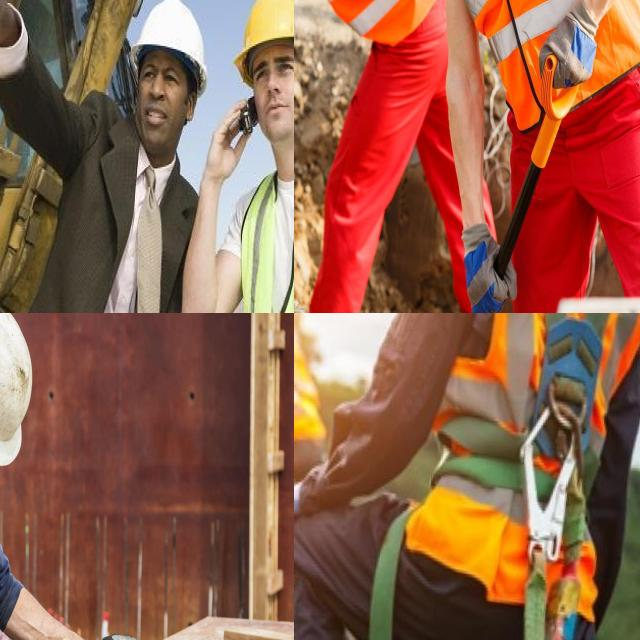Harness: (433, 313, 613, 640)
No_Ear-Protection: (182, 85, 198, 126)
No_Glasses: (136, 56, 184, 98), (245, 53, 294, 87)
face_nomask: (140, 56, 185, 160), (245, 47, 294, 142)
hand_glove: (540, 1, 614, 89), (455, 219, 522, 313), (83, 621, 152, 640)
hand_noglove: (207, 96, 249, 186)
head_helmet: (134, 0, 207, 95), (230, 0, 294, 84), (0, 313, 32, 467)
person: (458, 0, 640, 313), (294, 0, 448, 310), (92, 0, 191, 313), (224, 0, 294, 313)
vest: (437, 0, 636, 100)
